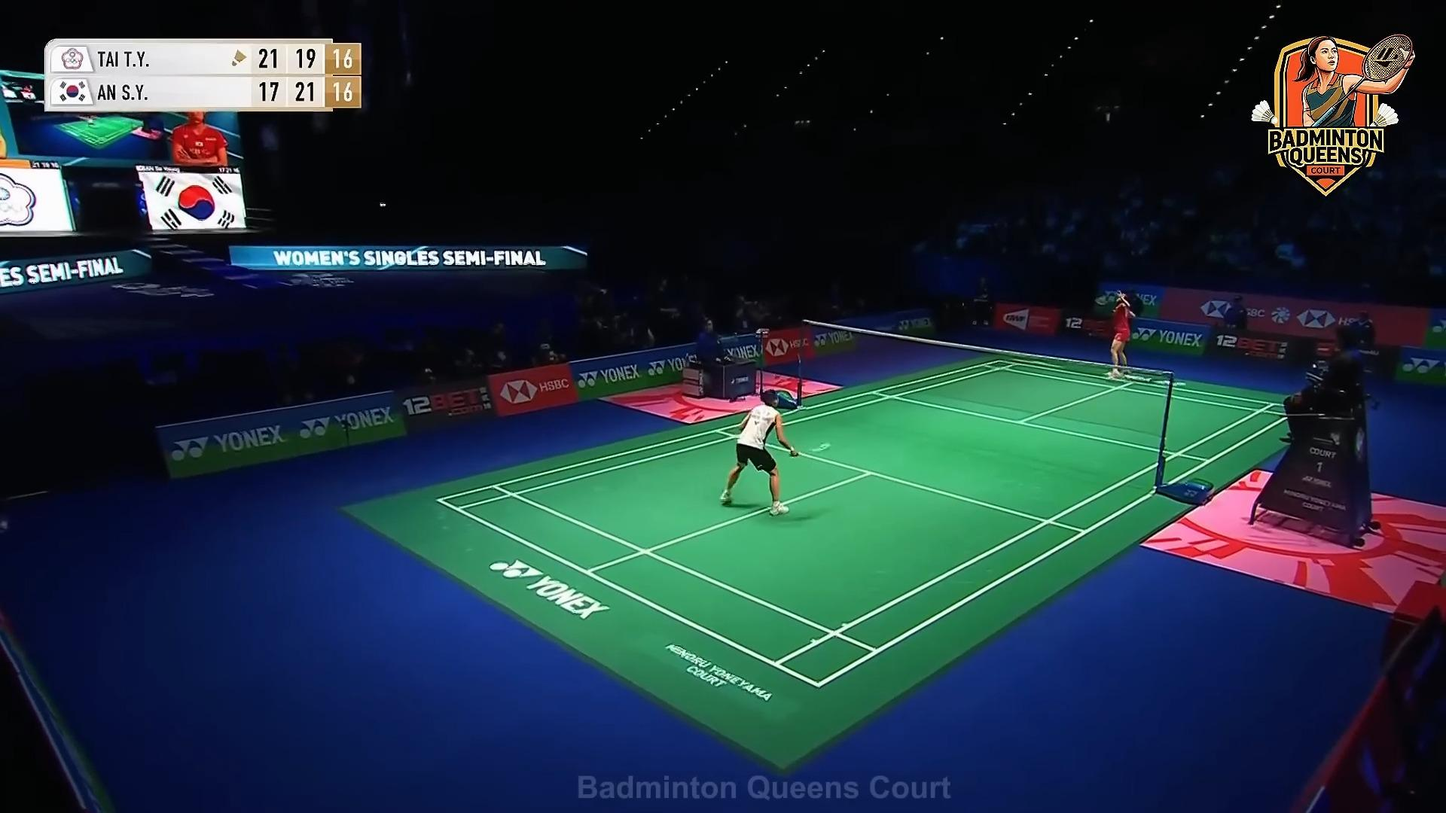player: (721, 388, 799, 520), (1105, 291, 1136, 382)
